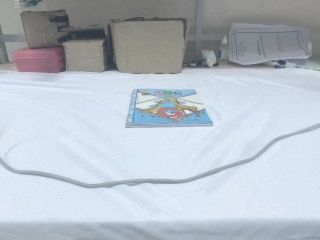book: (125, 87, 215, 129)
box: (19, 5, 113, 75), (108, 16, 188, 75), (62, 26, 115, 73), (20, 8, 74, 49)
